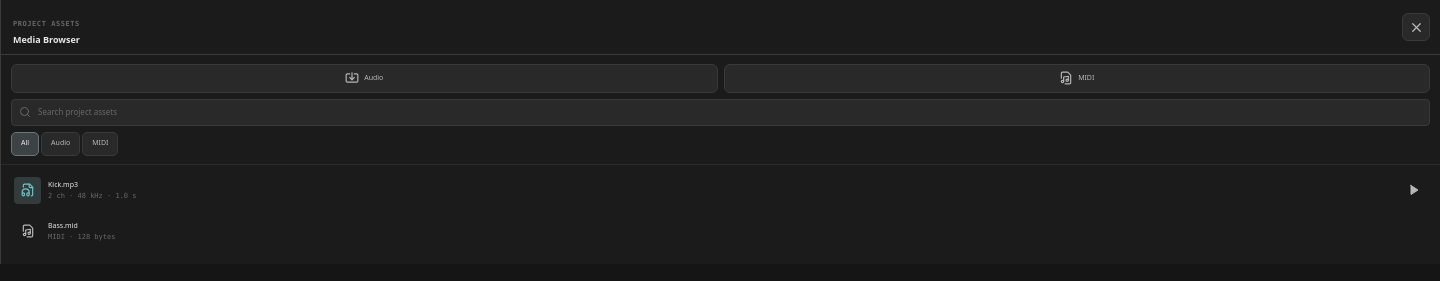
Test: MediaBrowserPanel › searches and filters the open project's audio and MIDI assets
Type "bass" into the search field with placeholder "Search project assets" at (730, 112), box [38,106,1422,118]
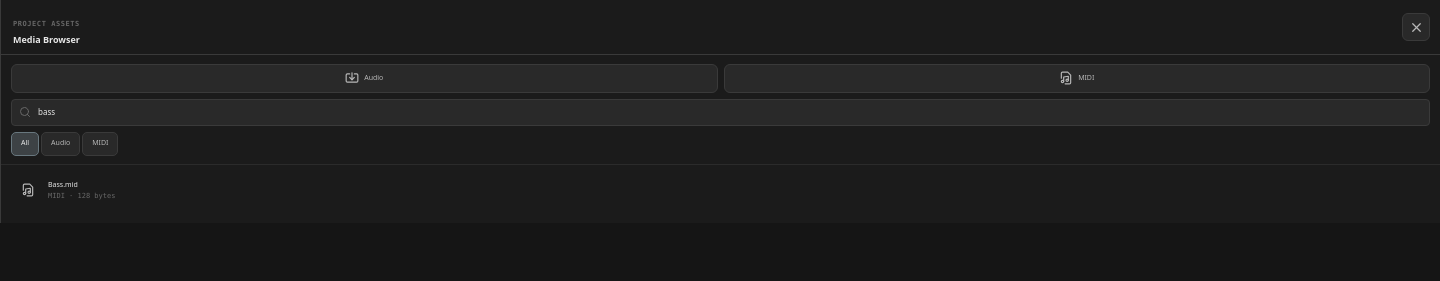
Expected: the text "Bass.mid" is shown, [48,180,78,189]
Now the text "Kick.mp3" is gone
Clear the search field named "Search project assets" at (730, 112), box [38,106,1422,118]
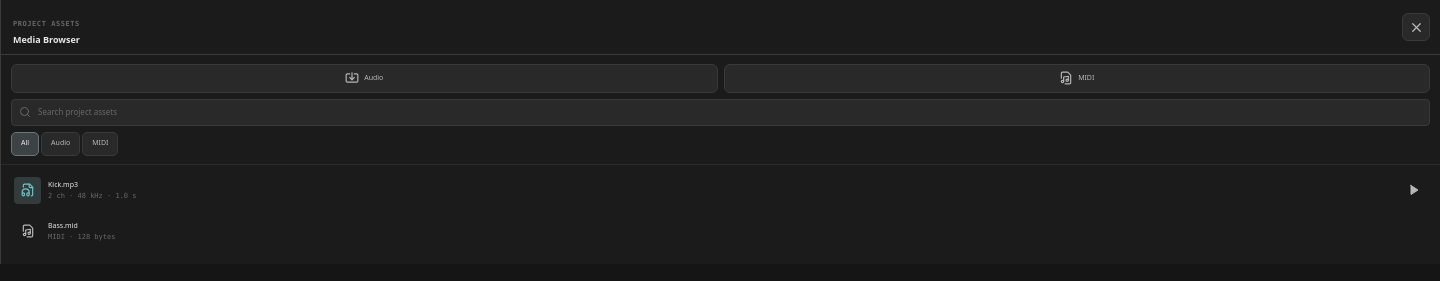
Click the 2nd button "Audio" at (61, 144), box [41,132,80,156]
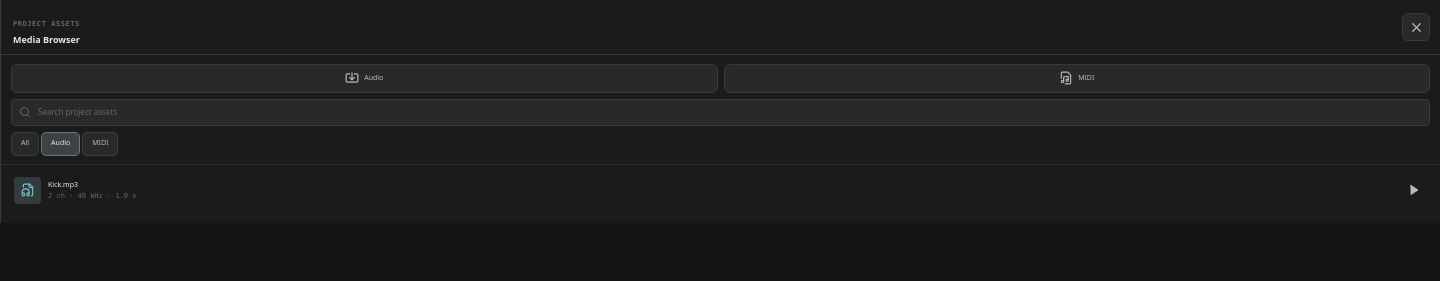
Now the text "Kick.mp3" is shown, box [48,180,78,189]
Now the text "Bass.mid" is gone
